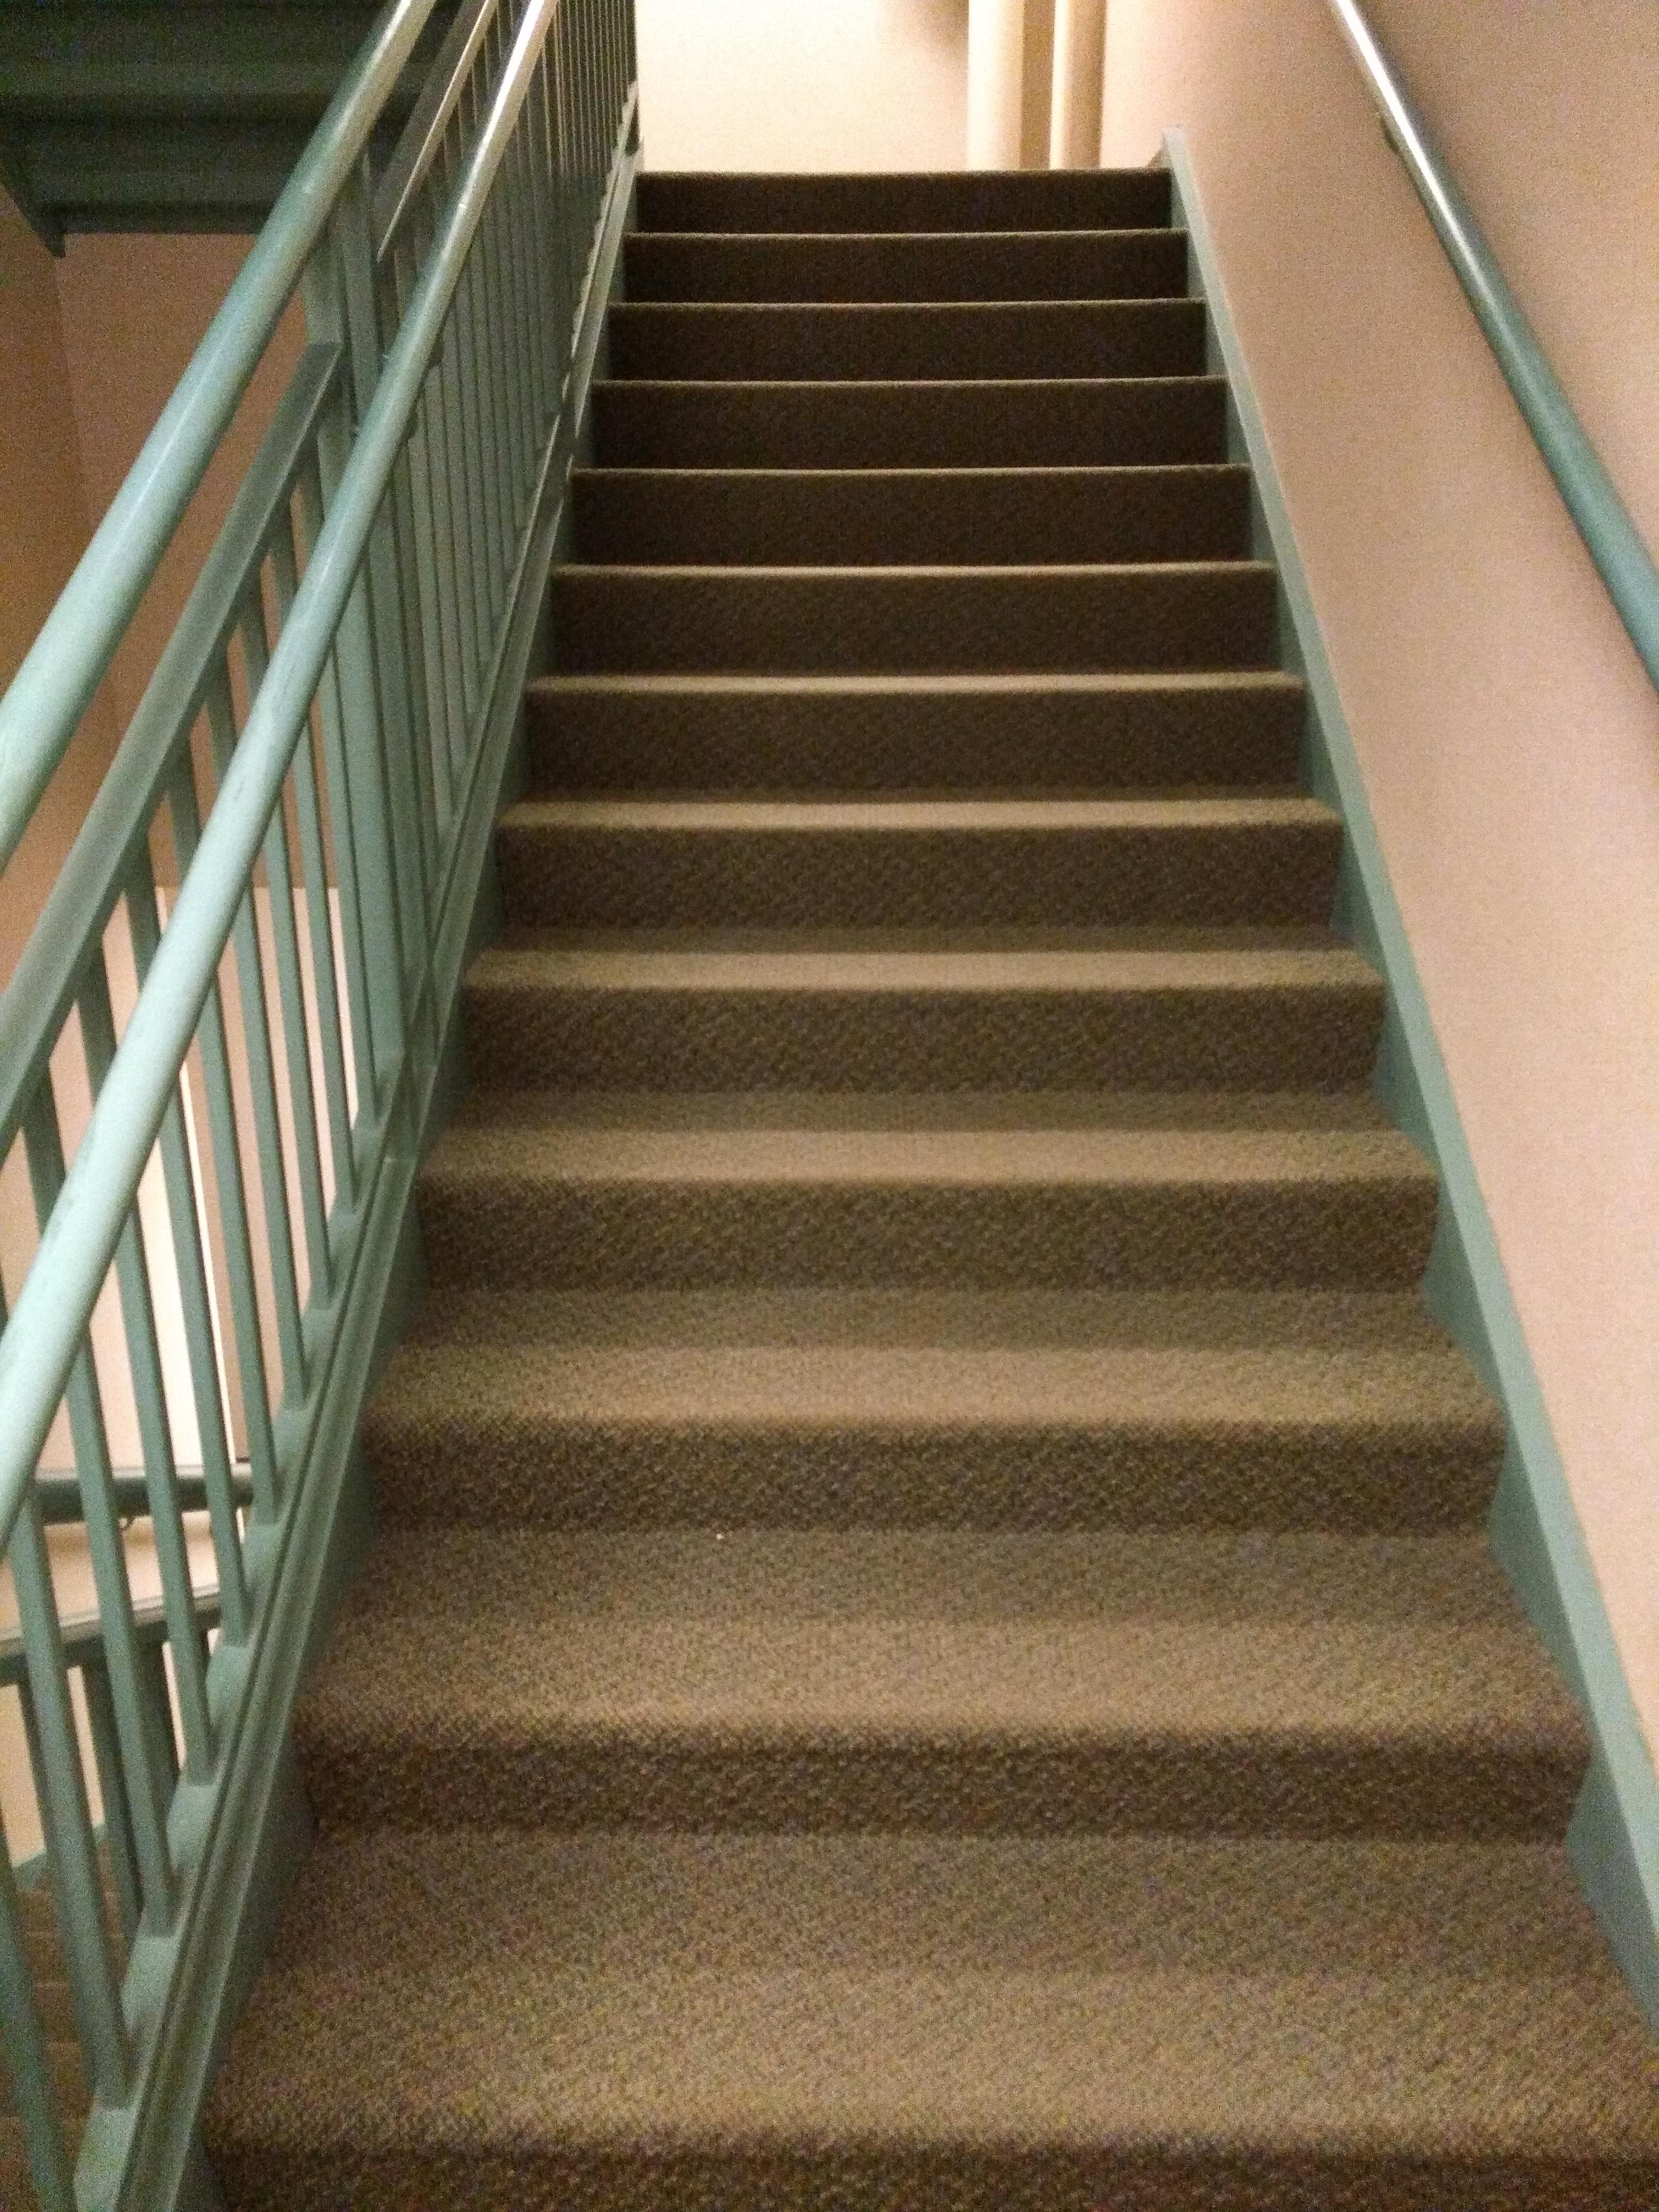stairs_up: (235, 70, 1628, 2177)
